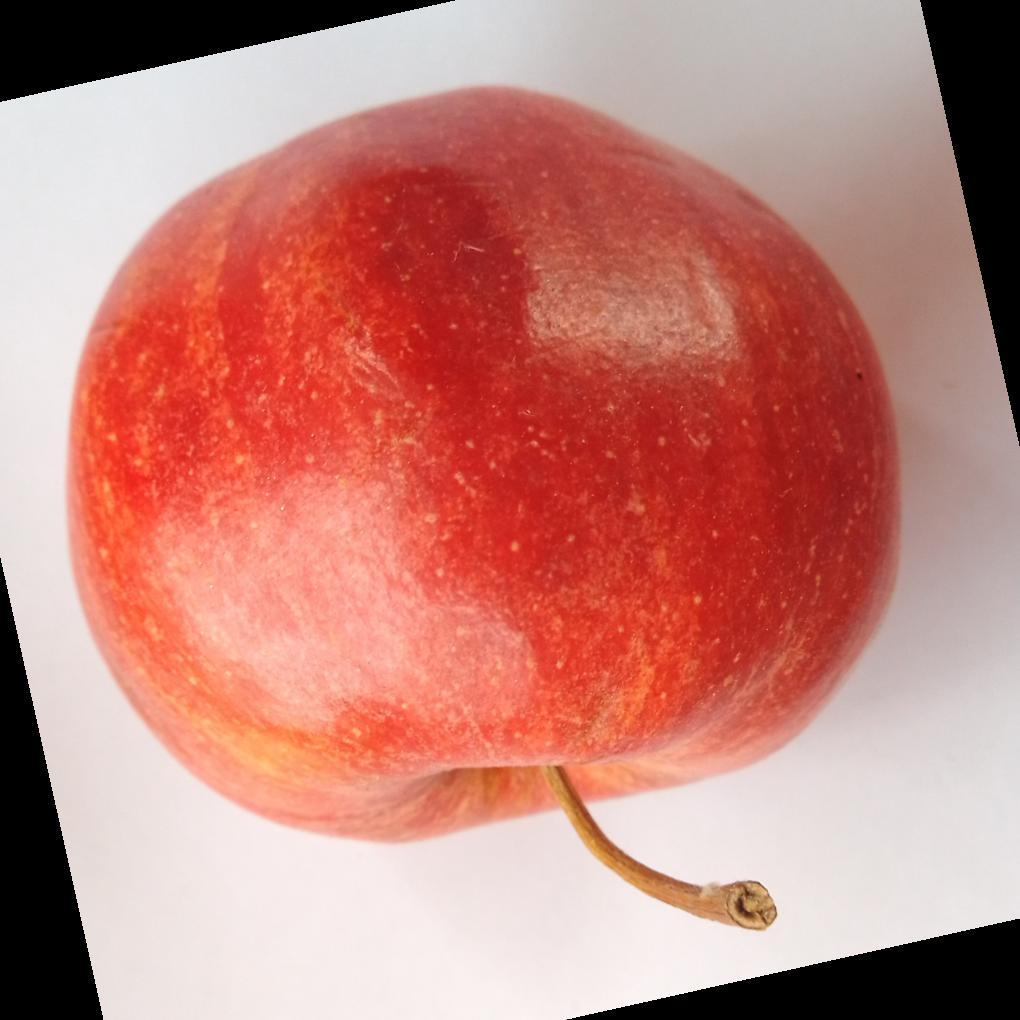FreshGuava: (64, 85, 904, 932)
